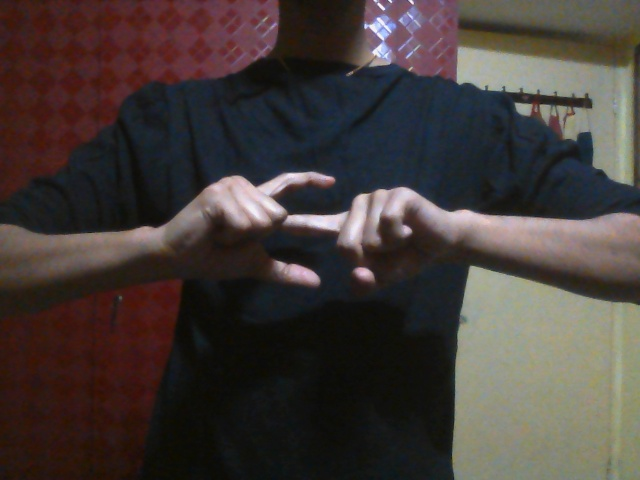E: (184, 170, 452, 296)
